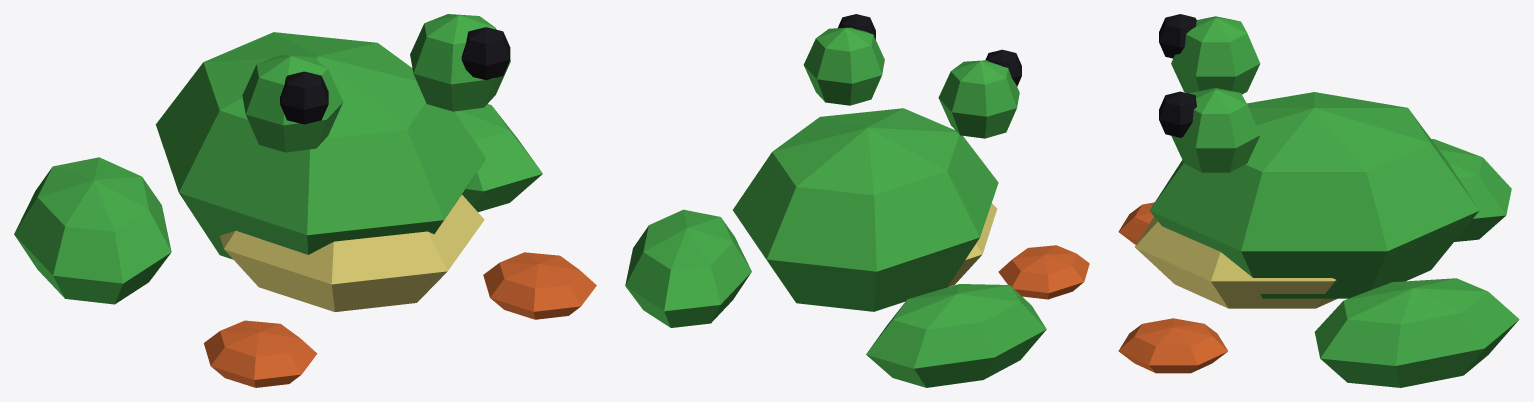
Rendered from frog.glb.
3 views of the same model, side by side, from view 1: azimuth 30°, elevation 25°; view 2: azimuth 150°, elevation 25°; view 3: azimuth 270°, elevation 25° (orthographic). The views are drawn at different scales.
Visible parts, largest first — view 1: frog; view 2: frog; view 3: frog.
Part boxes in pixels (x1,y1,x2,y2): frog: [14, 14, 596, 387]; frog: [625, 14, 1089, 387]; frog: [1118, 14, 1519, 387].
Size of the model in its own units: 0.3502 by 0.1975 by 0.2844.
